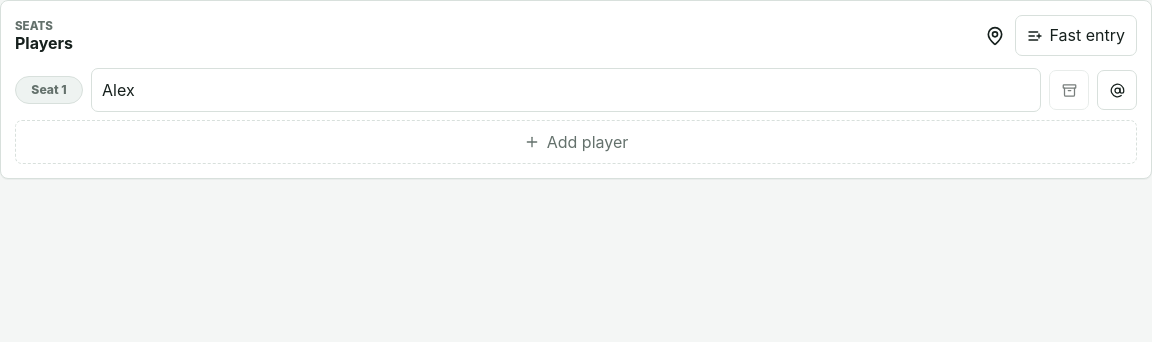
Test case: PlayerDrawer › edits a player's Venmo username and remembers it for the linked person
Click the button named "Venmo username for Alex": (1117, 90) [1097,70,1137,110]
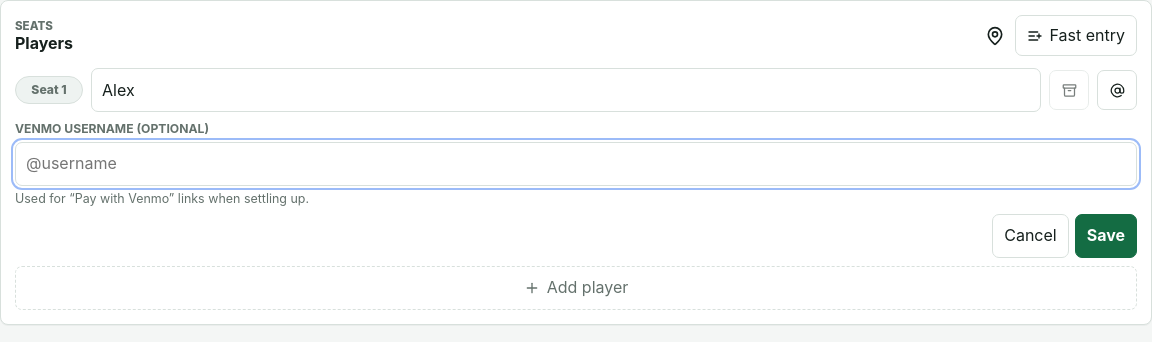
In the field labelled "Venmo username": (576, 164) [15,142,1137,186], type "bad"
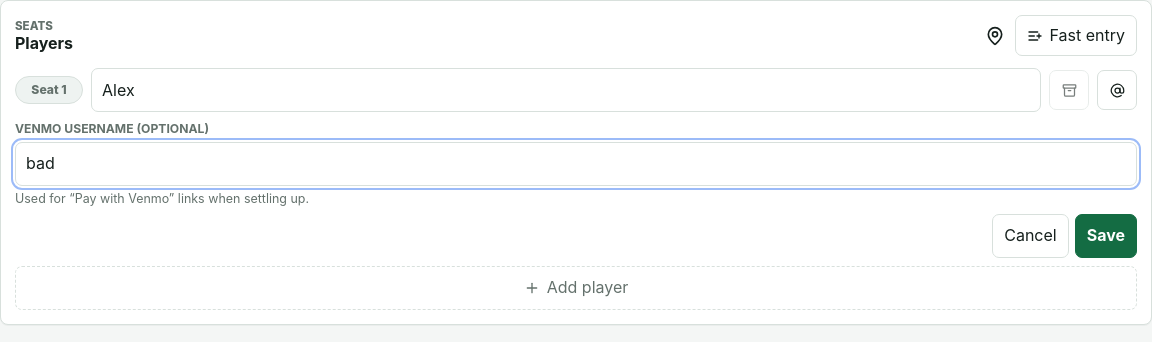
Click the button "Save": (1106, 236) [1075,214,1137,258]
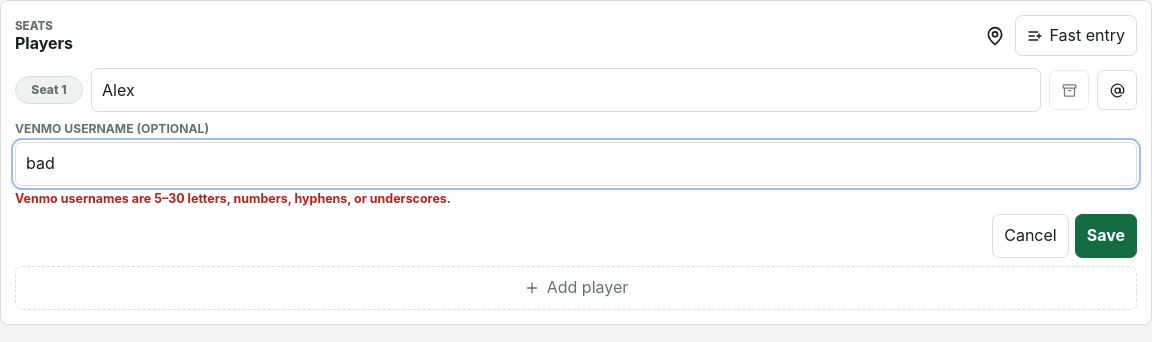
Check: the message shows "5–30 letters", box [15,191,451,206]
Replace the text in the field labelled "Venmo username" with "@alex-pays": (576, 164) [15,142,1137,186]
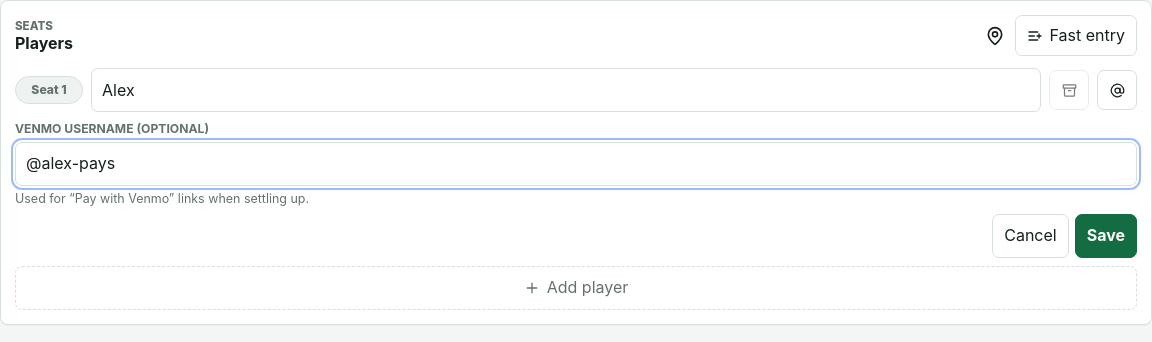
Press Enter in the field labelled "Venmo username", box [15,142,1137,186]
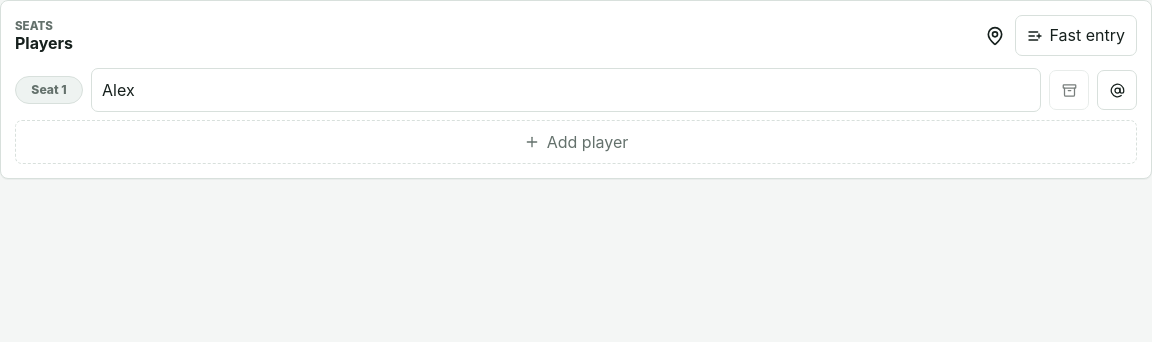
Check: the text "Venmo username" is gone
